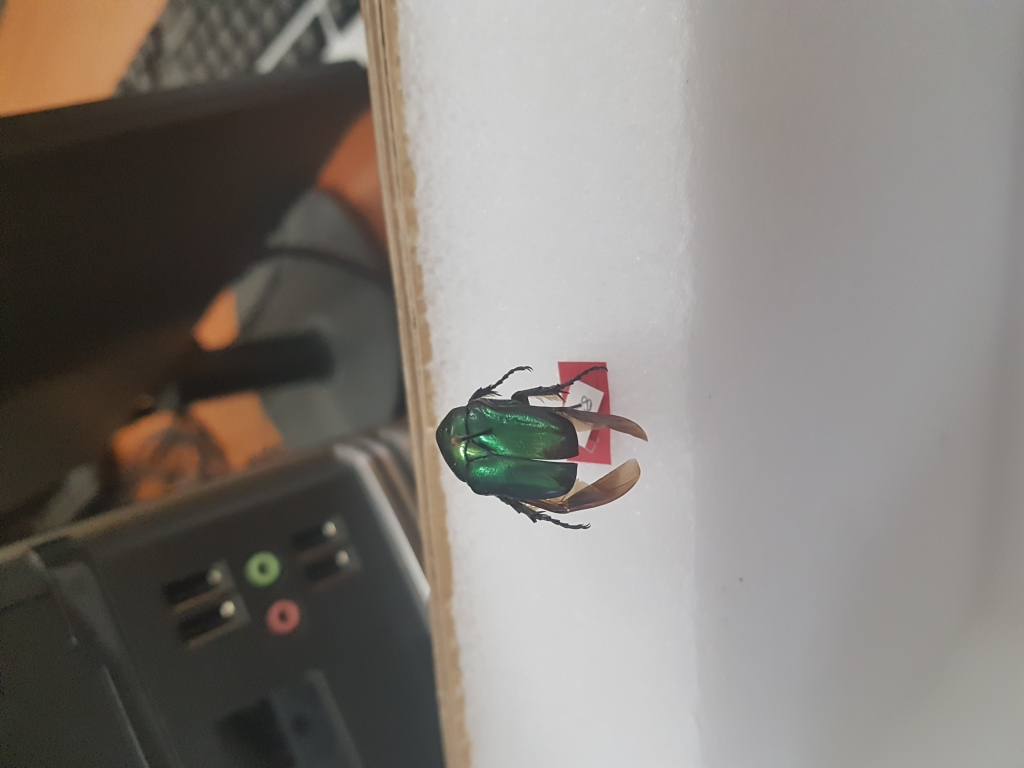Protaetia_besucheti: (431, 355, 652, 538)
